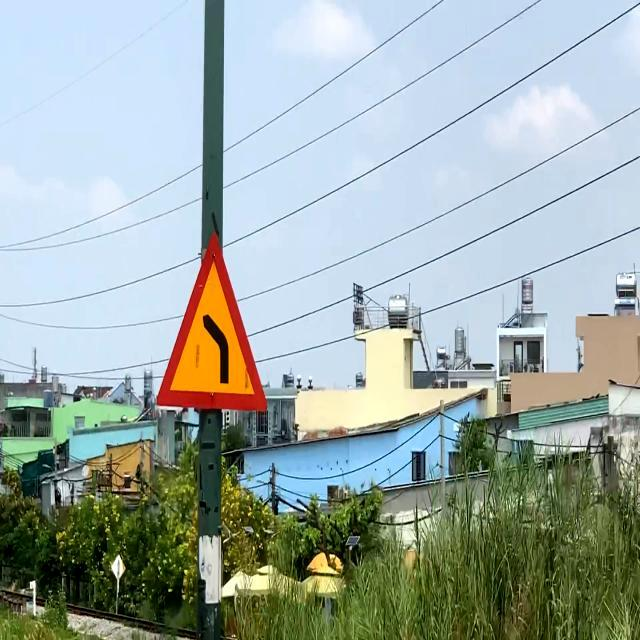cho ngoat nguy hiem vong ben trai: (151, 222, 275, 434)
